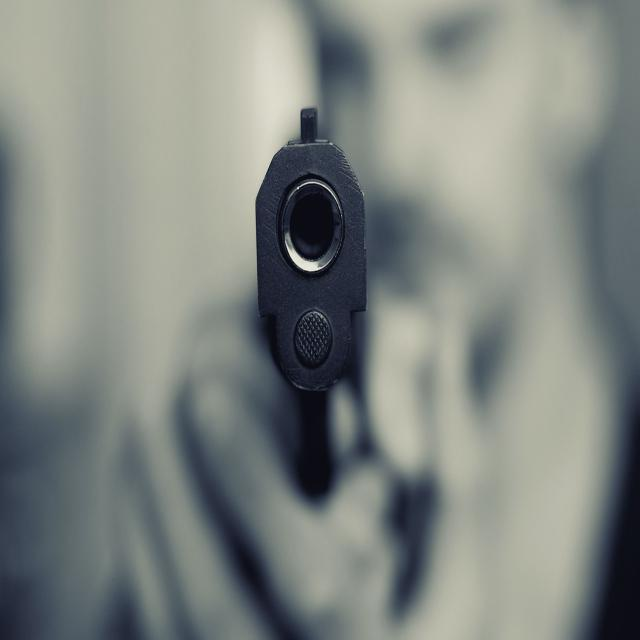Gun: (256, 108, 366, 497)
